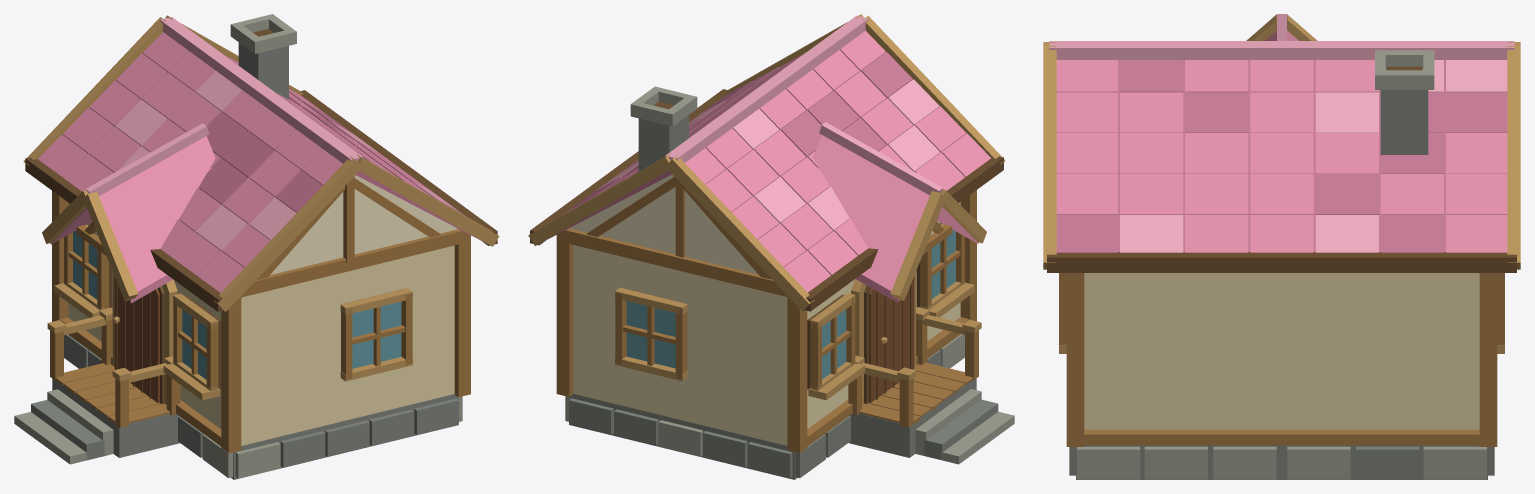
Rendered from SM_PinkRoofHouse.fbx.
3 renders of one model, left to right at view 1: azimuth 30°, elevation 25°; view 2: azimuth 150°, elevation 25°; view 3: azimuth 270°, elevation 25°, orthographic. The views are drawn at different scales.
Visible parts, largest first — view 1: SM_PinkRoofHouse; view 2: SM_PinkRoofHouse; view 3: SM_PinkRoofHouse.
Boxes of the visible parts, left/top/right/bottom form: SM_PinkRoofHouse: left=14, top=14, right=499, bottom=479; SM_PinkRoofHouse: left=528, top=14, right=1014, bottom=479; SM_PinkRoofHouse: left=1043, top=14, right=1520, bottom=479.
Size of the model in its own units: 6.57 by 6.19 by 5.47.
